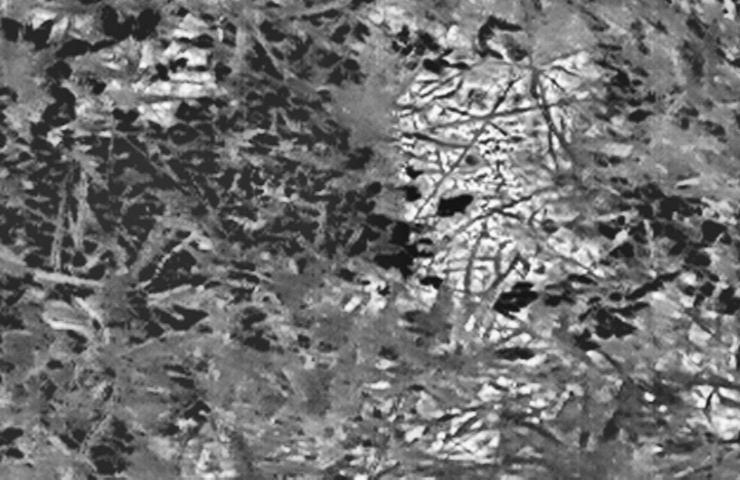landmines: (390, 22, 632, 308)
